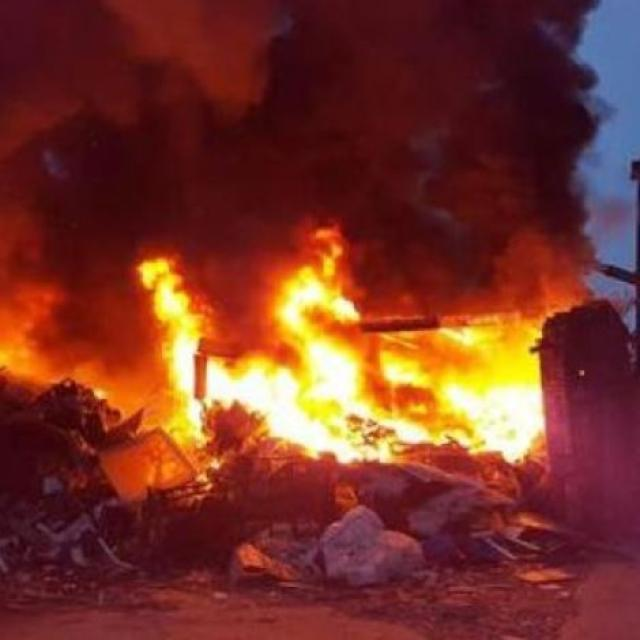Fire: (152, 273, 572, 464)
Smoke: (8, 0, 611, 298)
